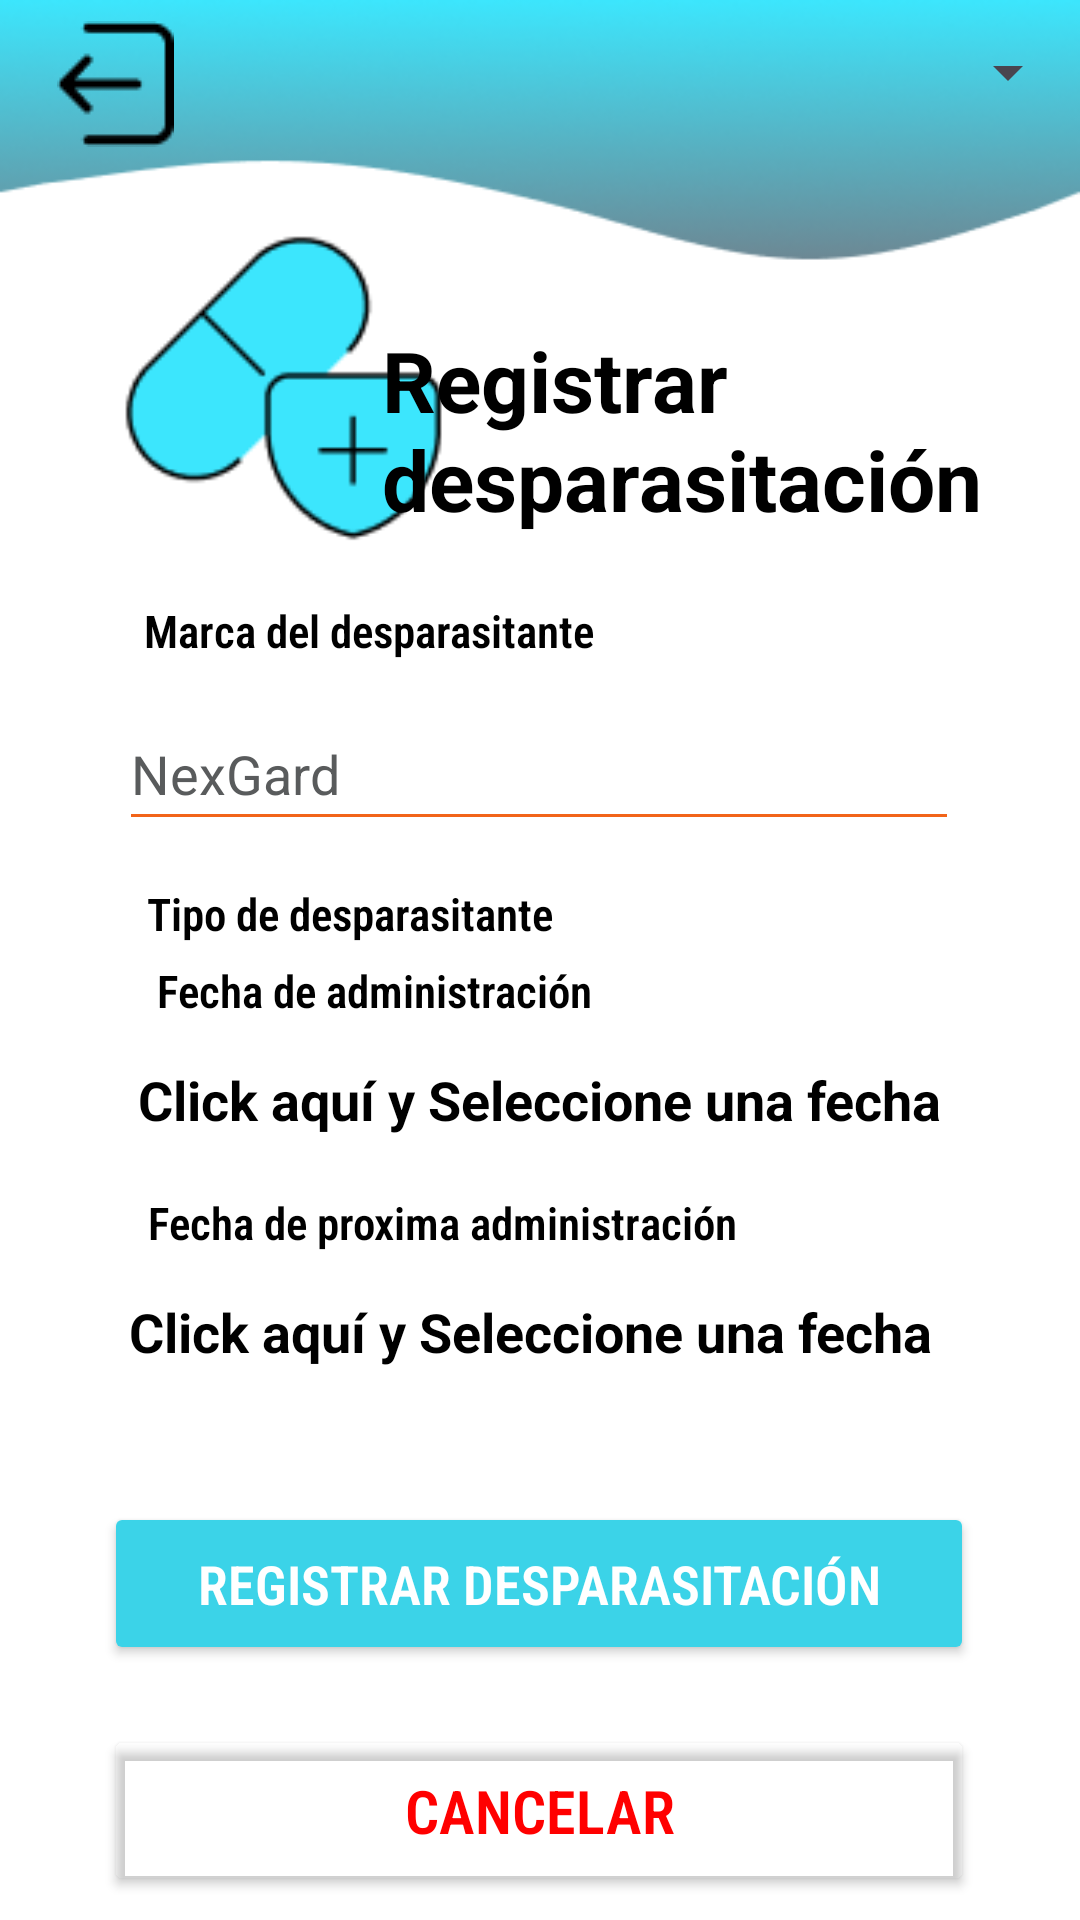

Where to tap for icons on this 1080w x 1920h app screen, as (x,y):
btnvolver: (115,84)
pastilla: (286,388)
